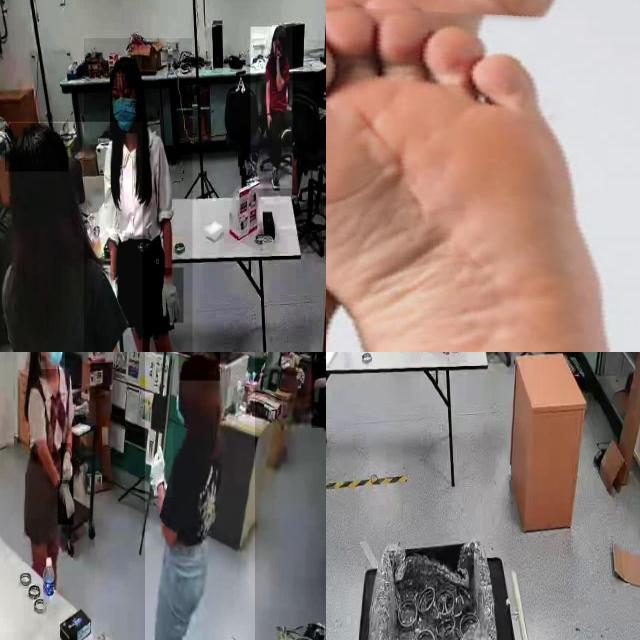Barefoots: (326, 0, 640, 352)
face_mask: (110, 75, 138, 134), (41, 352, 65, 369)
face_nomask: (272, 41, 282, 55)
hand_glove: (144, 429, 173, 497), (155, 268, 184, 324), (58, 480, 74, 526), (61, 443, 71, 484)
hand_noglove: (265, 109, 272, 131), (275, 46, 281, 60)
head_nohelmet: (5, 122, 69, 172), (178, 352, 220, 381), (108, 56, 142, 80), (272, 25, 286, 38)
person: (84, 38, 193, 352), (0, 121, 143, 352), (144, 352, 255, 640), (20, 352, 81, 585), (251, 27, 293, 189), (306, 40, 326, 150), (311, 352, 326, 429)
